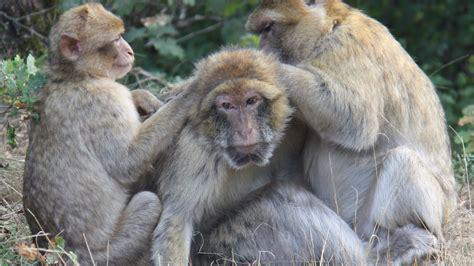monkey: (248, 1, 455, 266), (24, 6, 188, 266), (147, 50, 289, 266)
